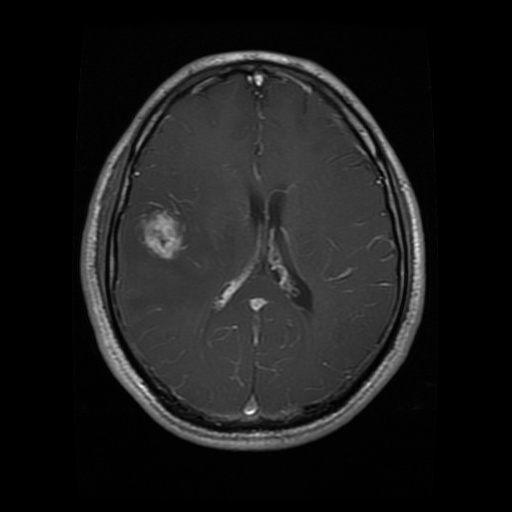glioma: (128, 192, 197, 262)
